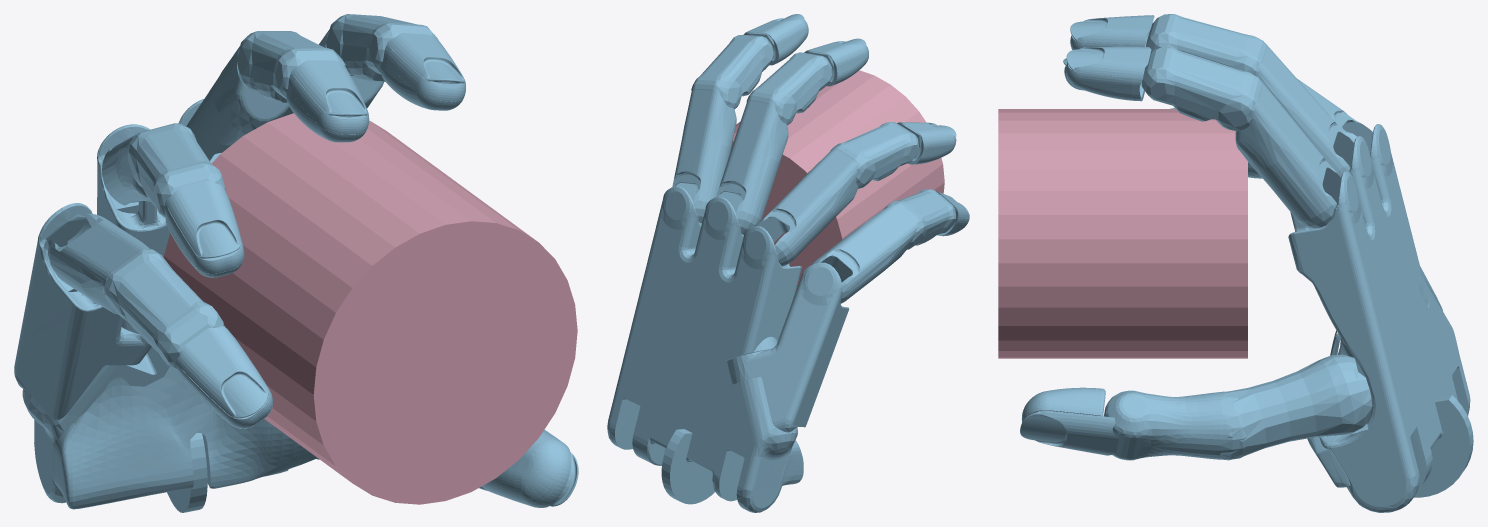
3 views of the same model, side by side, from view 1: azimuth 30°, elevation 25°; view 2: azimuth 150°, elevation 25°; view 3: azimuth 270°, elevation 25° (orthographic). The views are drawn at different scales.
Visible parts, largest first — view 1: cylinder_medium.stl, world; view 2: world, cylinder_medium.stl; view 3: world, cylinder_medium.stl.
Part boxes in pixels (box(x1,y1,x2,y2)): cylinder_medium.stl: box(163, 113, 577, 504); world: box(14, 14, 578, 512); world: box(607, 14, 969, 512); cylinder_medium.stl: box(731, 70, 944, 290); world: box(1020, 14, 1473, 512); cylinder_medium.stl: box(998, 109, 1247, 358).
Bounding box in the file's own units: 0.1153 × 0.1666 × 0.1523.
